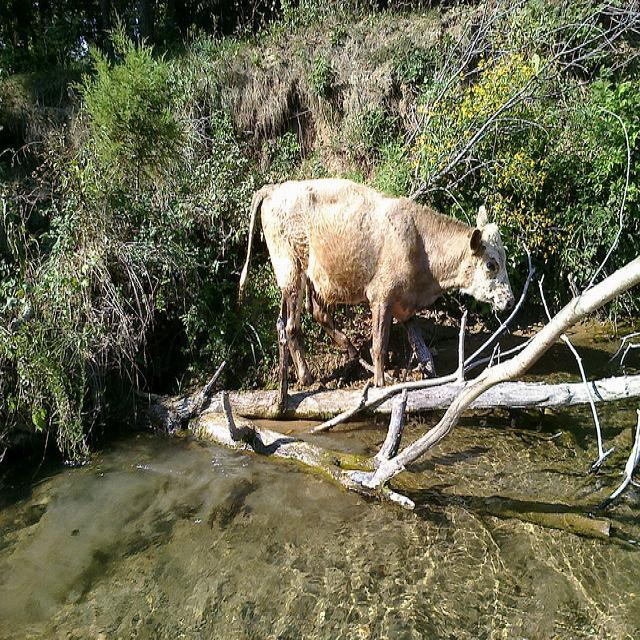cow: (236, 179, 518, 392)
